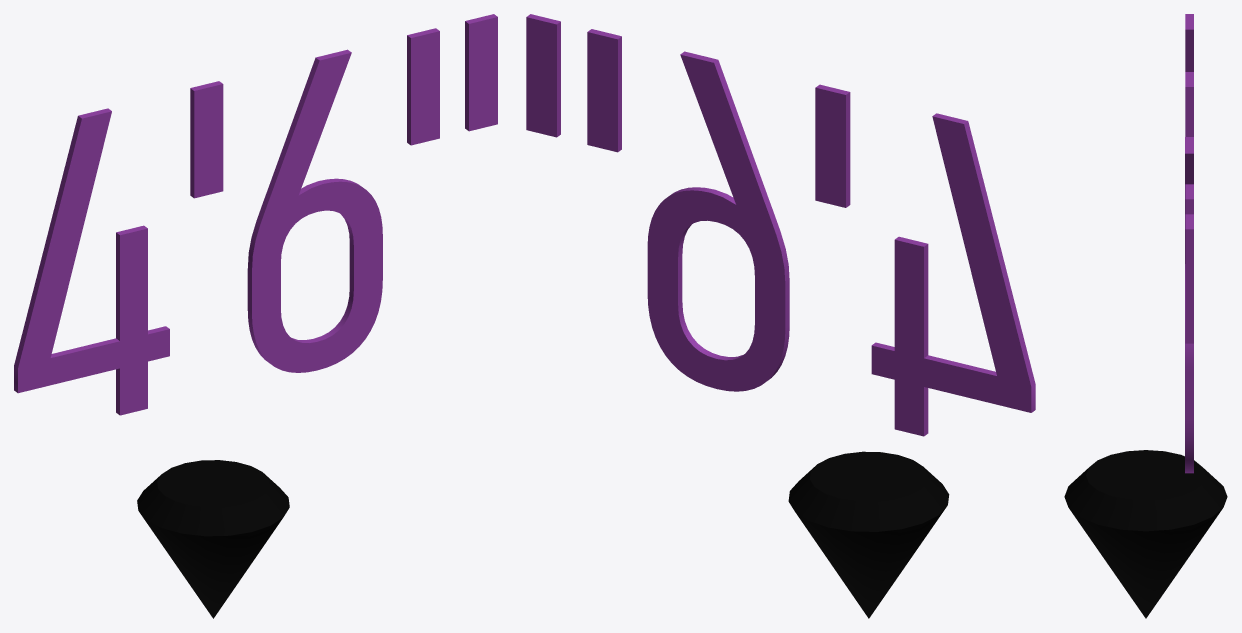
File: FourFootSix.fbx
3 views of the same model, side by side, from view 1: azimuth 30°, elevation 25°; view 2: azimuth 150°, elevation 25°; view 3: azimuth 270°, elevation 25° (orthographic). The views are drawn at different scales.
Parts seen in each view (by area): view 1: polySurface12; view 2: polySurface12; view 3: polySurface12.
Boxes of the visible parts, <box> form: polySurface12: <box>14,14,497,618</box>; polySurface12: <box>526,14,1035,618</box>; polySurface12: <box>1064,14,1227,618</box>.
Size of the model in its own units: 19.82 by 20.31 by 5.49.
